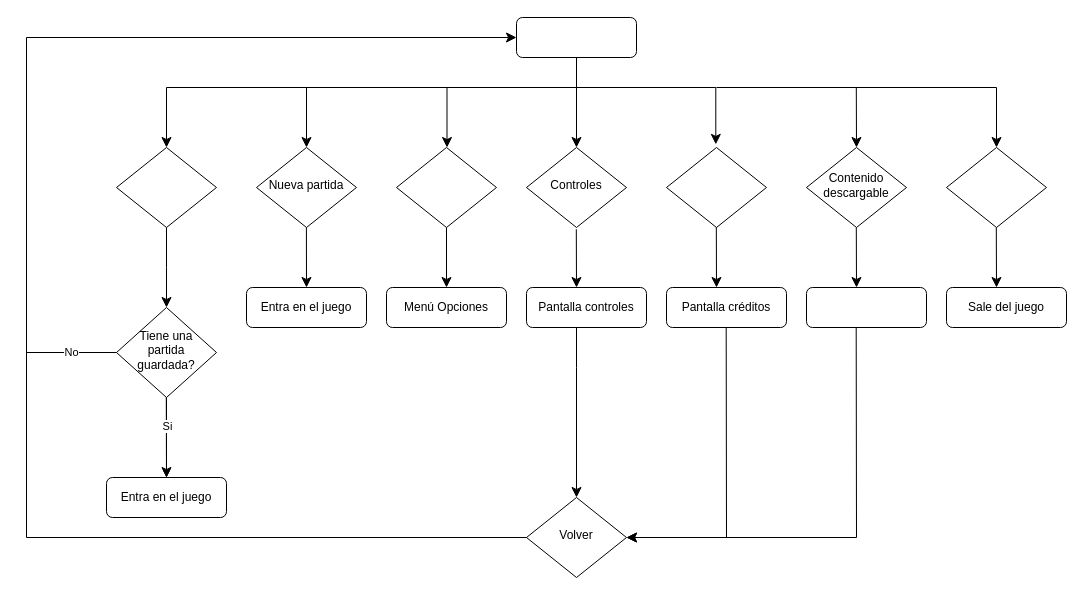
This 1084x595 diagram has some shape labels left out. Here are the shapes that lost their labels. From the top down, the centre of each, then its label:
At (576,37): "Menú inicio".
At (166,187): "Continuar".
At (446,187): "Opciones".
At (716,187): "Créditos".
At (996,187): "Salir".
At (866,307): "Pantalla contenido descargable".
